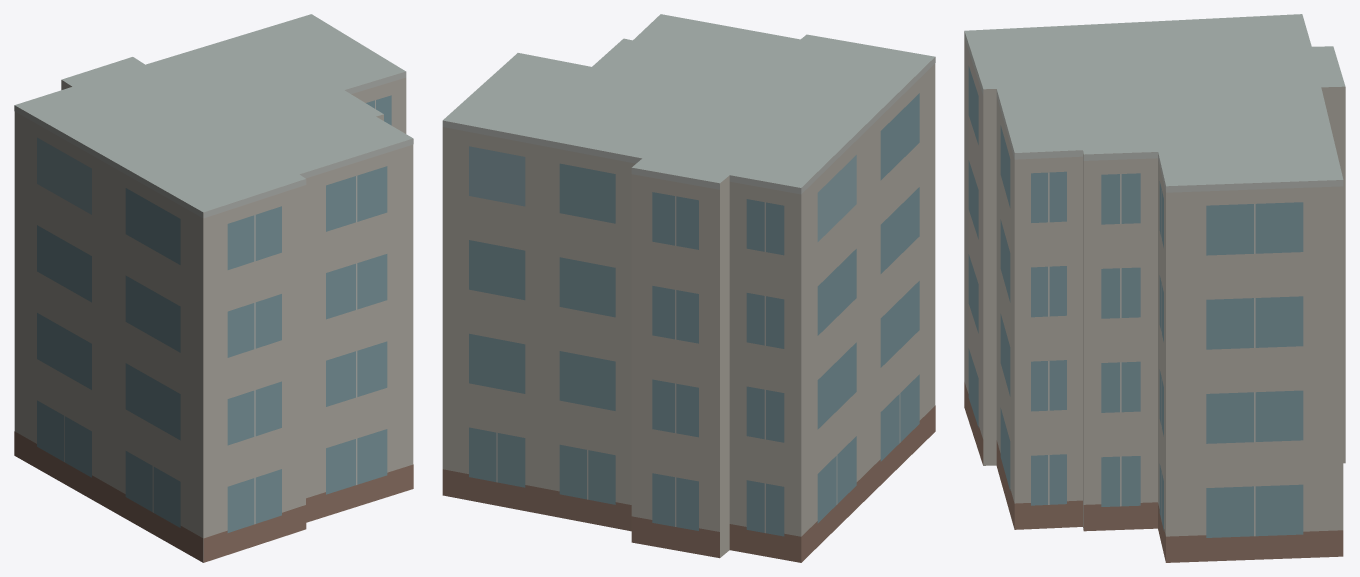
Rendered from survey-upis-32491389.glb.
3 views of the same model, side by side, from view 1: azimuth 30°, elevation 25°; view 2: azimuth 150°, elevation 25°; view 3: azimuth 270°, elevation 25° (orthographic). The views are drawn at different scales.
Parts seen in each view (by area): view 1: survey-upis-32491389.tmp; view 2: survey-upis-32491389.tmp; view 3: survey-upis-32491389.tmp.
Boxes of the visible parts, x1=… form: survey-upis-32491389.tmp: x1=14, y1=14, x2=413, y2=562; survey-upis-32491389.tmp: x1=442, y1=14, x2=935, y2=562; survey-upis-32491389.tmp: x1=964, y1=14, x2=1345, y2=562.
Bounding box in the file's own units: 13.83 × 14.1 × 12.94.
